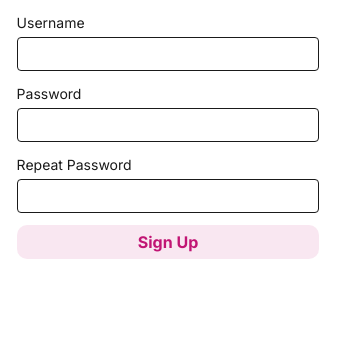
Test: SignUp component › displays validation errors if fields are empty on submit
Click the button "Sign Up": [168, 242] box [17,225,319,259]
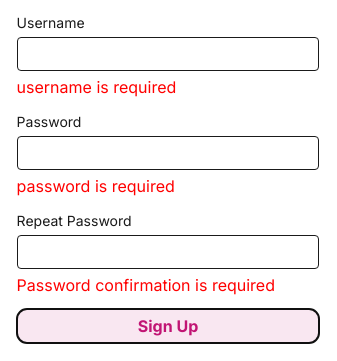
Expected: the text "username is required" is shown, [17,77,176,97]
Expected: the text "password is required" is shown, [17,176,175,196]
Expected: the text "Password confirmation is required" is shown, [17,273,319,297]
